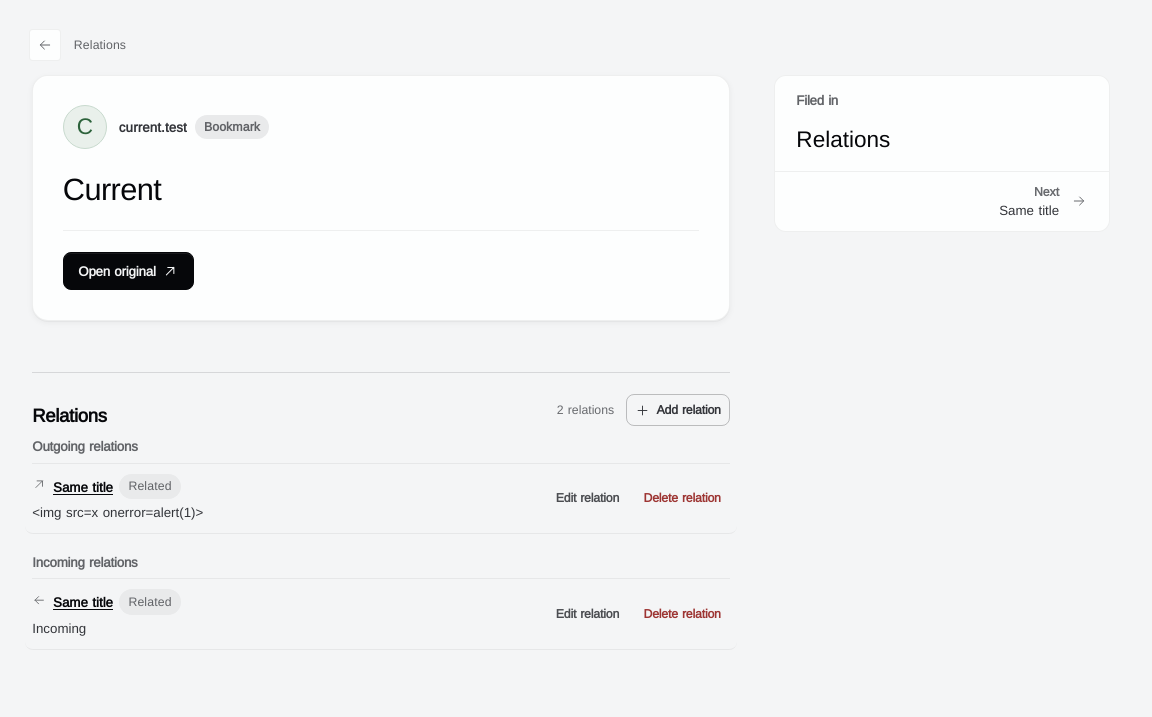
Test: Resource Detail Relation workflow › refreshes after 412, preserves same intent after unknown outcome, and requires explicit 409 recovery
Click the button "Edit relation" in the row of "<img src=x onerror=alert(1)>".
click(587, 498)  # box left=547, top=482, right=628, bottom=514
(page scrolled)
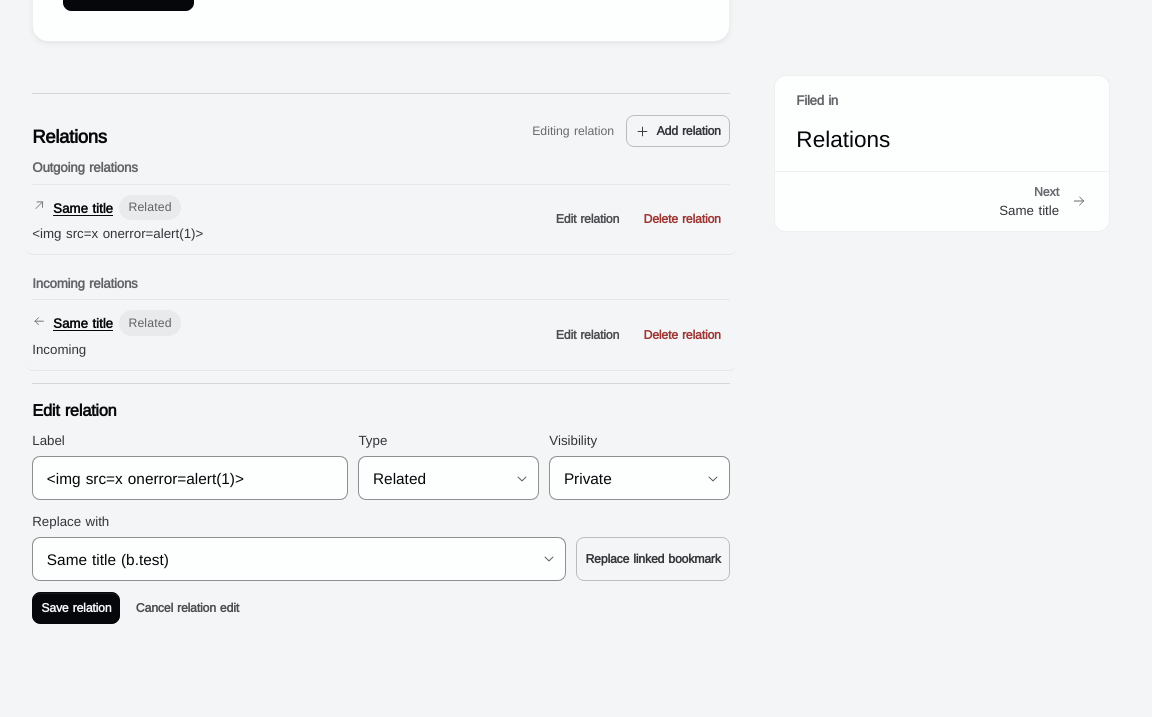
Click the button "Save relation".
click(76, 608)  # box left=32, top=592, right=120, bottom=624
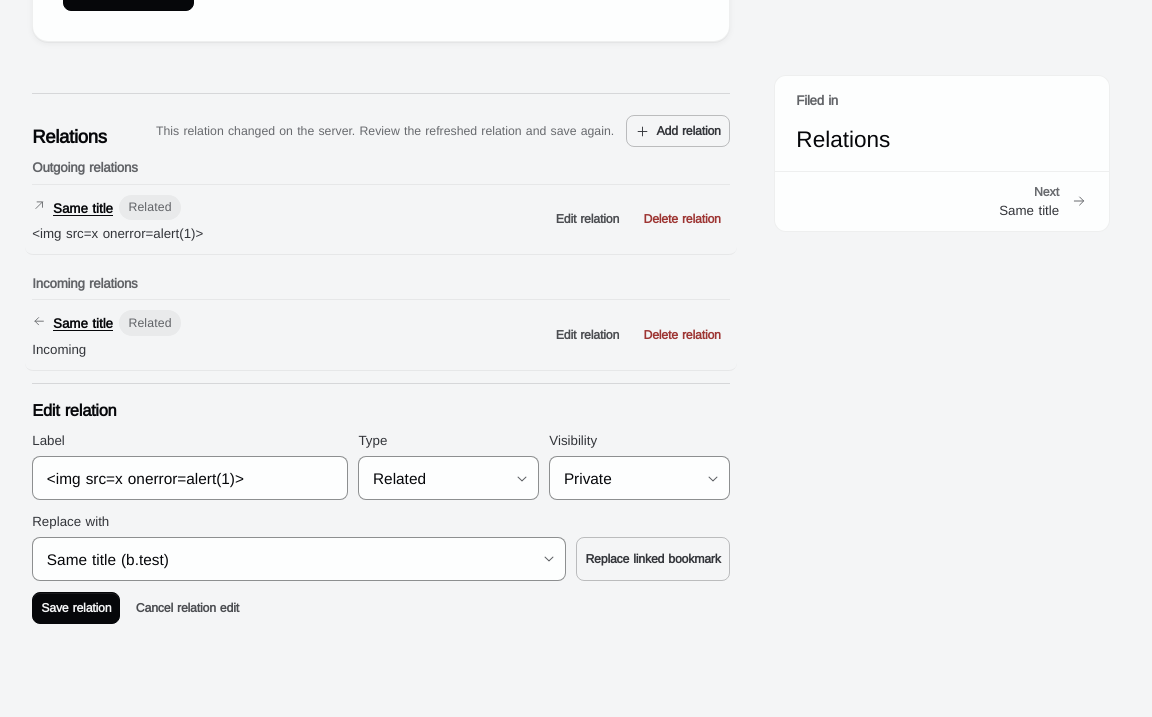
Check: the text "changed on the server" is shown, box left=156, top=123, right=614, bottom=138
Click the button "Save relation".
click(76, 608)  # box left=32, top=592, right=120, bottom=624
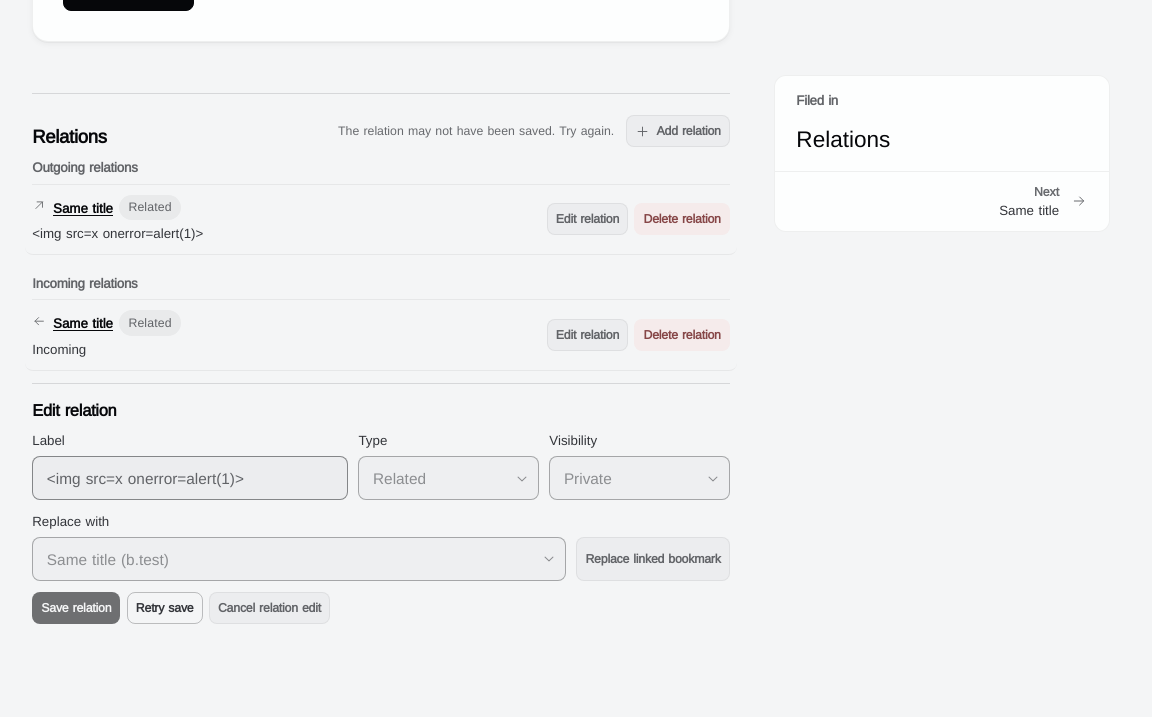
Check: the text "may not have been saved" is shown, box left=338, top=123, right=614, bottom=138
Click the button "Retry save".
click(165, 608)  # box left=127, top=592, right=202, bottom=624
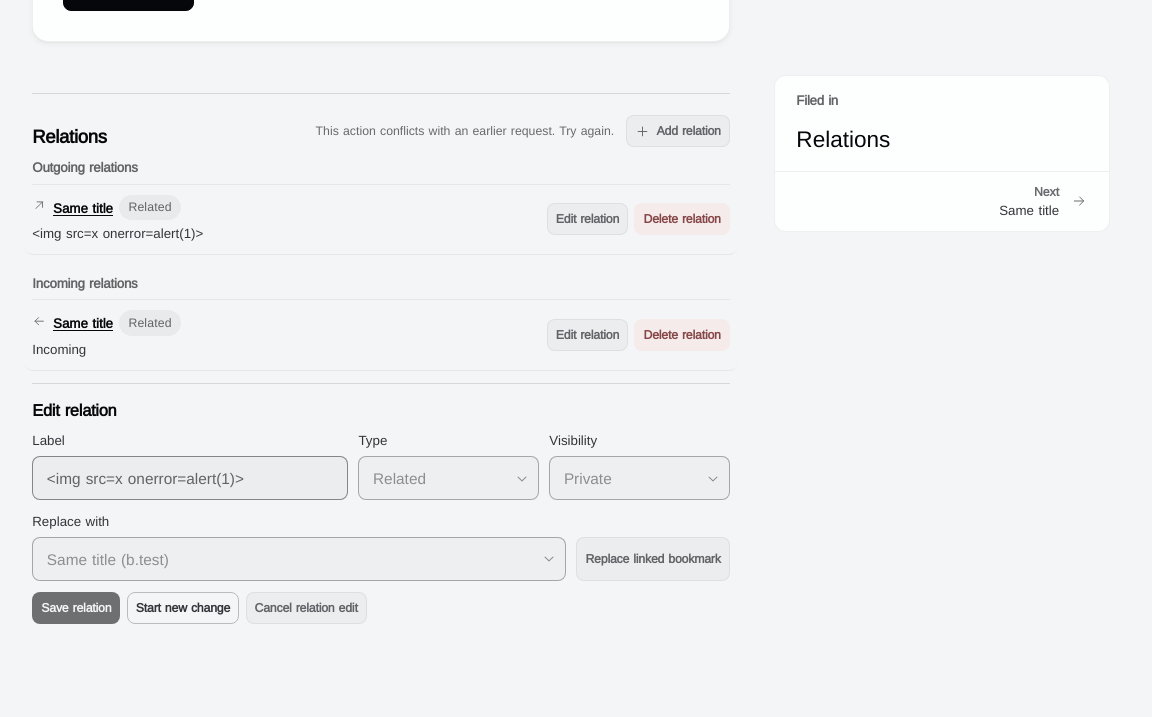
Check: the text "conflicts with an earlier request" is shown, box left=316, top=123, right=614, bottom=138
Click the button "Start new change".
click(183, 608)  # box left=127, top=592, right=239, bottom=624
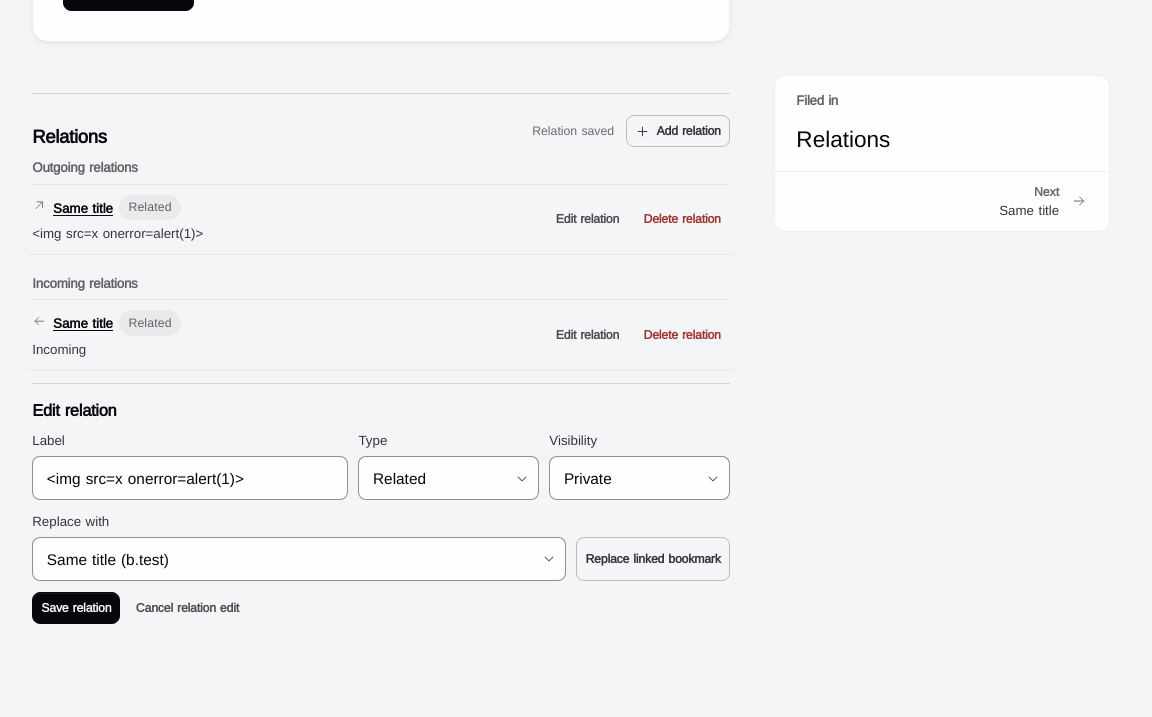
Check: the text "Relation saved" is shown, box left=532, top=122, right=614, bottom=140
